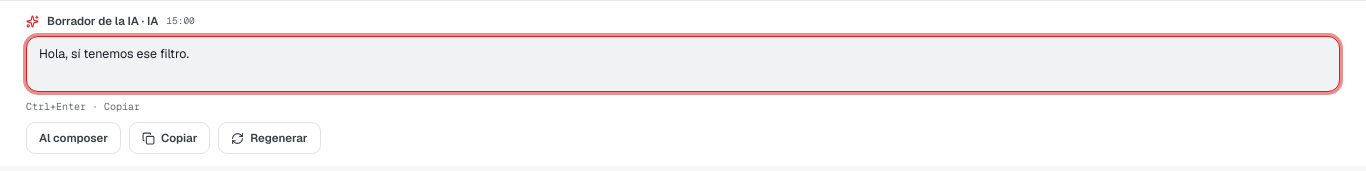
TarjetaBorrador — navegador › tras enviar por Al composer la tarjeta pasa enseguida a 'Ya usado': no queda un segundo clic que reenvíe
Click the button "Al composer": (73, 138) x1=26 y1=122 x2=121 y2=154
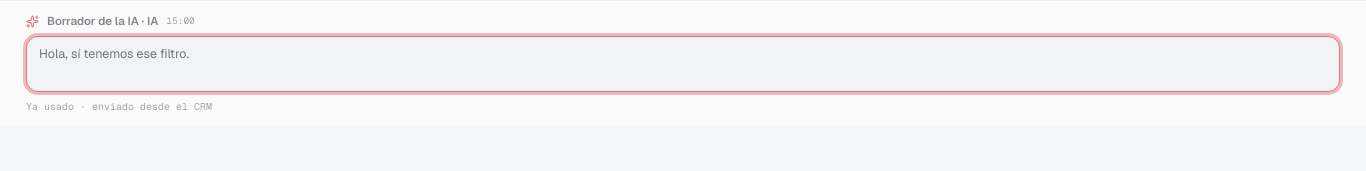
Result: the text "Ya usado · enviado desde el CRM" is shown at x1=26 y1=100 x2=212 y2=113
Result: the button "Al composer" is gone
